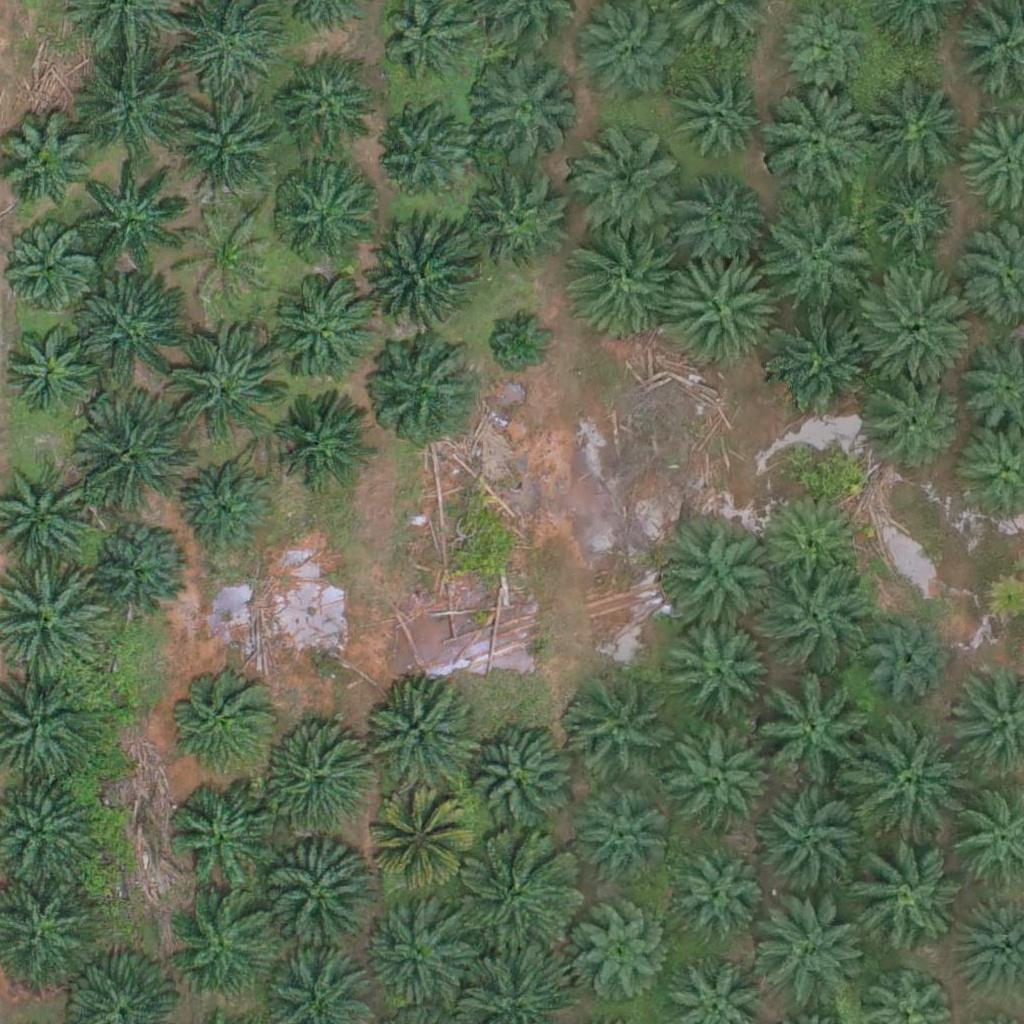Kelapa_Sawit: (76, 398, 189, 512), (754, 783, 867, 896), (460, 836, 573, 949), (263, 843, 376, 956), (165, 785, 278, 898), (755, 189, 868, 302), (768, 306, 881, 419), (662, 253, 775, 366), (567, 113, 680, 226), (559, 227, 672, 340), (851, 730, 964, 843), (757, 679, 870, 792), (662, 522, 775, 635), (459, 724, 572, 837), (464, 54, 577, 167), (363, 223, 476, 336), (77, 272, 190, 385), (753, 900, 865, 1014), (168, 890, 280, 1004), (758, 87, 870, 201), (271, 273, 383, 387), (173, 97, 285, 211), (166, 662, 278, 776), (847, 839, 959, 952), (860, 77, 972, 190), (860, 265, 972, 378), (763, 562, 875, 675), (665, 712, 777, 825), (559, 675, 671, 788), (362, 681, 474, 794), (252, 725, 364, 838), (365, 339, 477, 452), (169, 328, 281, 441), (74, 159, 186, 272), (78, 44, 190, 157), (361, 902, 461, 1003), (856, 375, 956, 476), (669, 172, 769, 273), (673, 59, 773, 160), (762, 492, 862, 593), (670, 626, 770, 727), (473, 173, 573, 274), (370, 105, 470, 206), (179, 201, 279, 302), (86, 519, 186, 620), (566, 908, 666, 1008), (367, 796, 467, 896), (272, 392, 372, 492), (276, 63, 376, 163), (269, 164, 369, 264), (175, 465, 275, 565), (864, 173, 952, 261), (781, 3, 869, 91), (869, 612, 957, 700), (677, 853, 764, 941), (579, 798, 666, 886), (483, 302, 558, 377)
